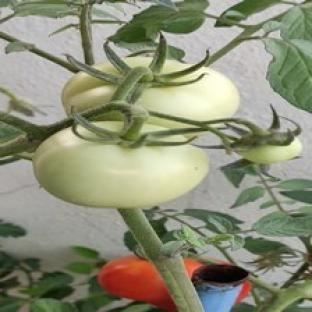Tomato: (34, 129, 208, 208), (137, 67, 239, 121), (98, 255, 176, 311), (239, 137, 302, 164)
